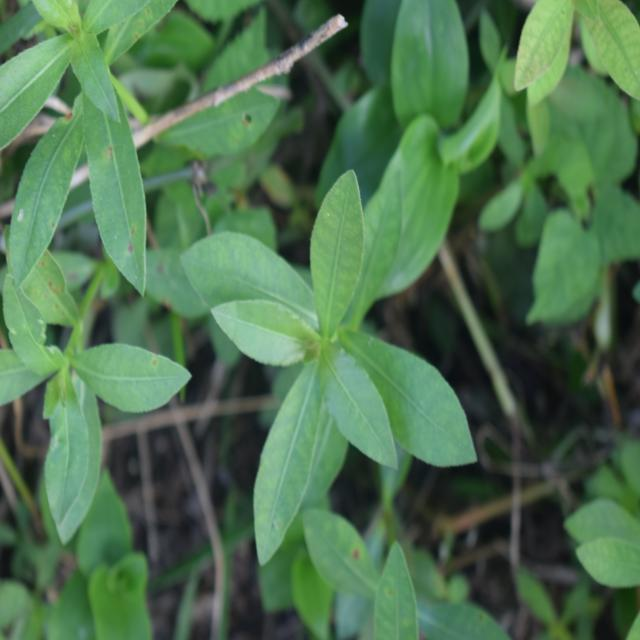Alligatorweed: (179, 167, 467, 555), (1, 0, 182, 285)
